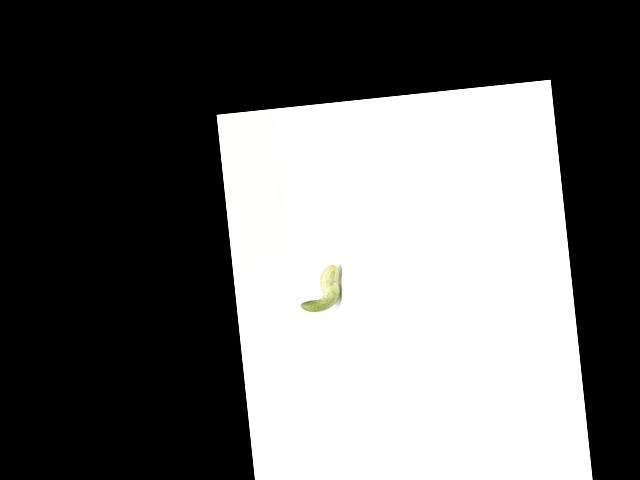cucumber: (297, 264, 343, 314)
